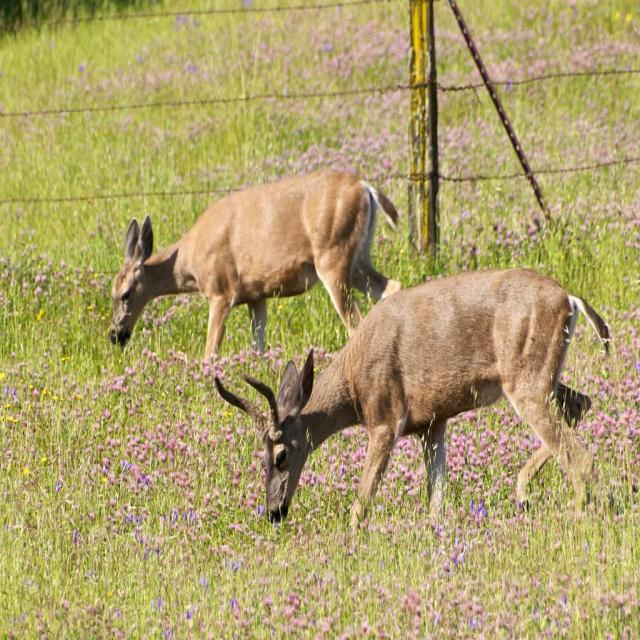Deer: (214, 263, 612, 521), (107, 168, 402, 370)
